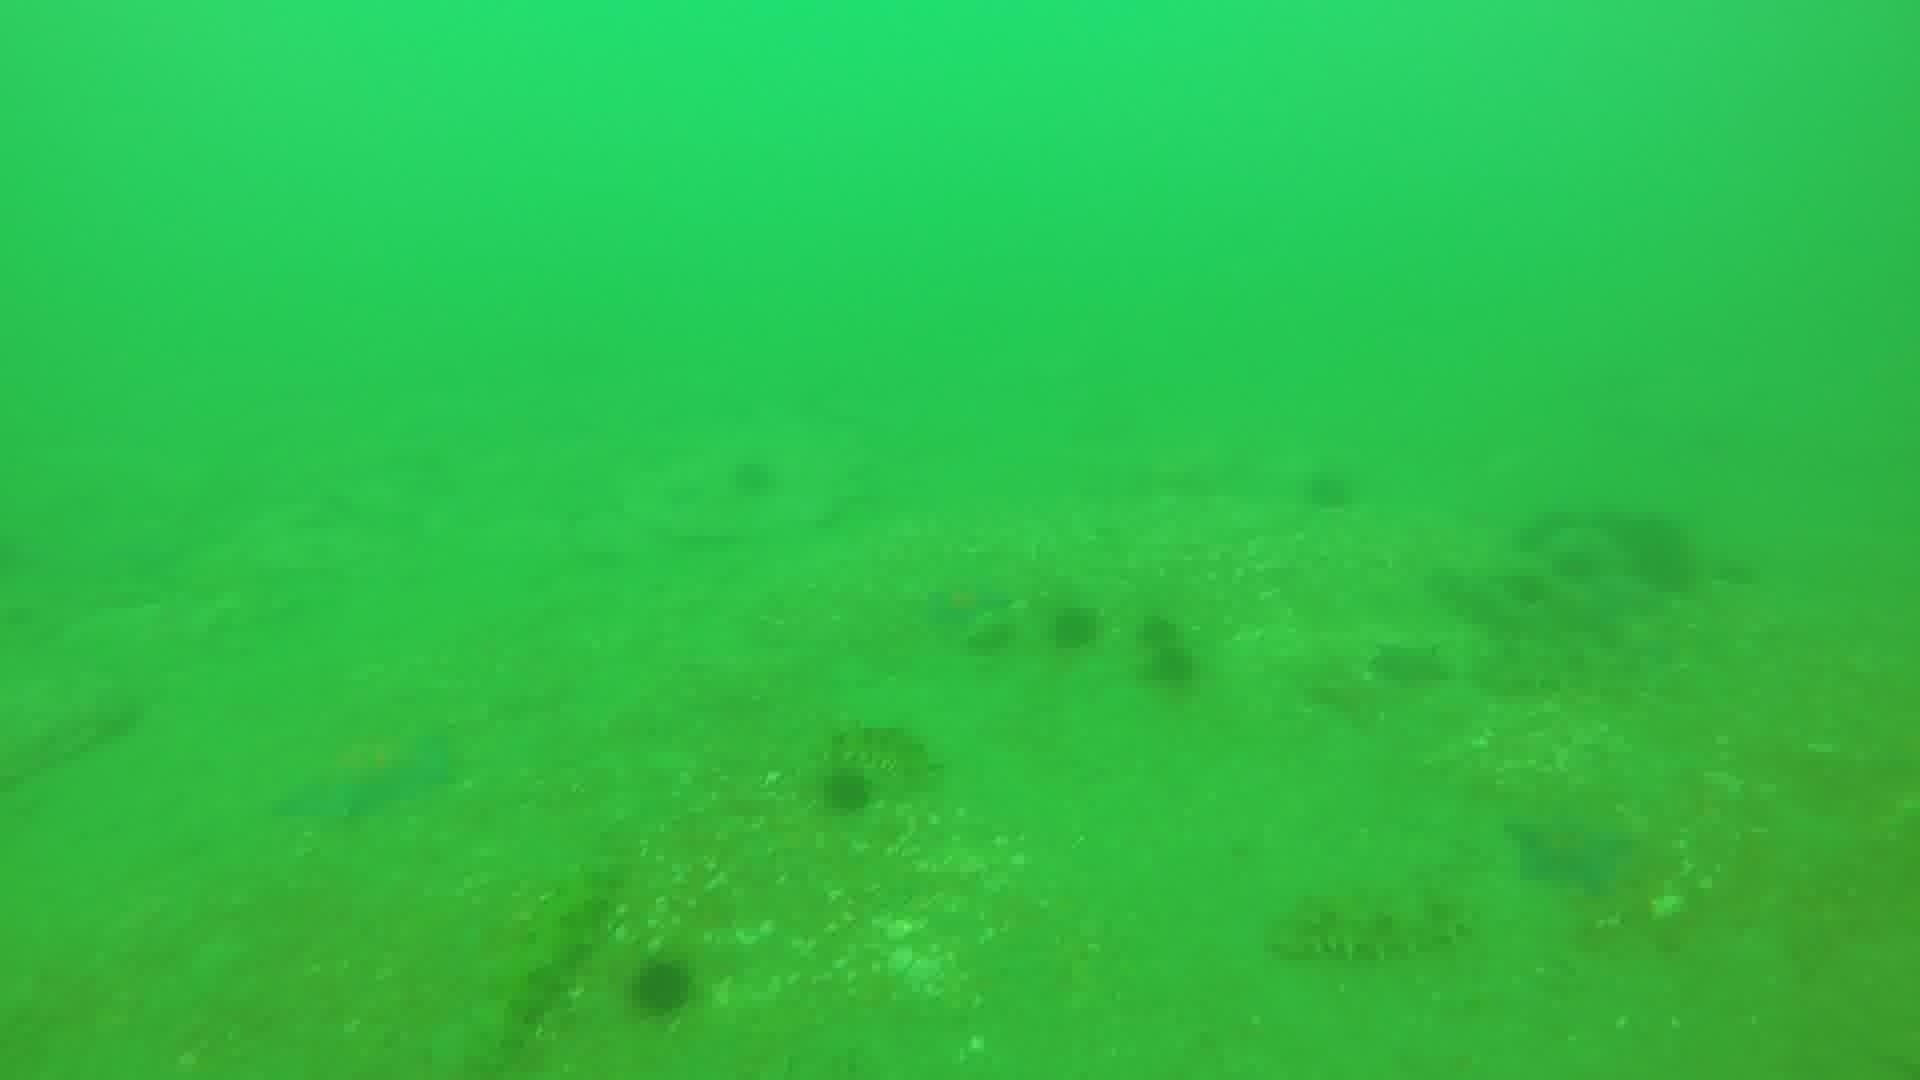echinus: (1618, 512, 1702, 597), (624, 952, 702, 1021), (812, 761, 880, 820), (1042, 599, 1106, 655), (1298, 463, 1361, 516), (724, 452, 783, 502), (1145, 647, 1200, 700), (1134, 616, 1178, 651)
holothurian: (481, 858, 621, 1058), (1265, 884, 1474, 969), (1476, 628, 1669, 705), (832, 716, 944, 793)
starfish: (273, 721, 459, 831), (1502, 798, 1639, 898), (926, 568, 1023, 636), (1367, 636, 1451, 692)
